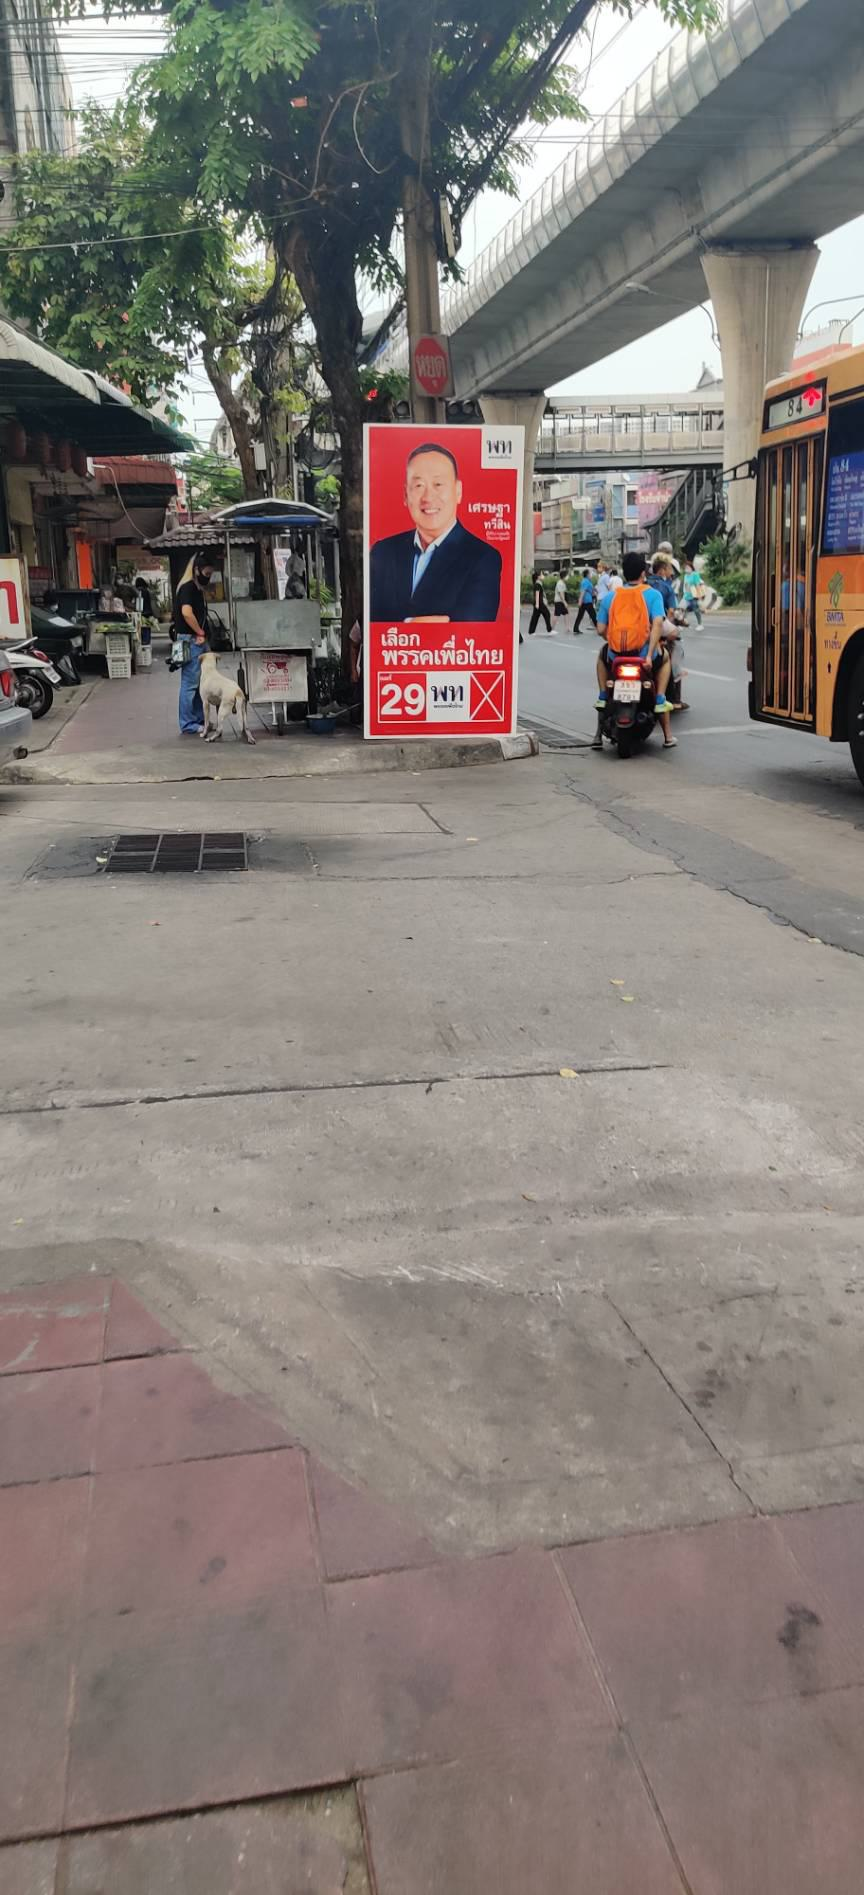Banner: (356, 421, 550, 752)
